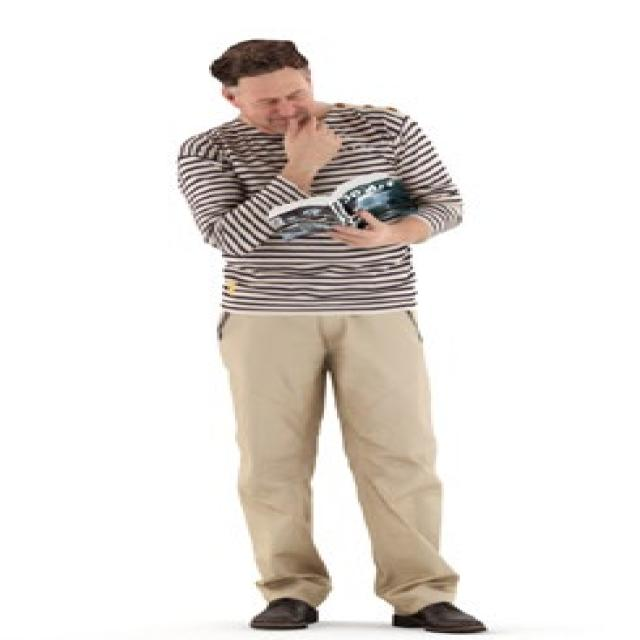standing: (170, 38, 489, 634)
